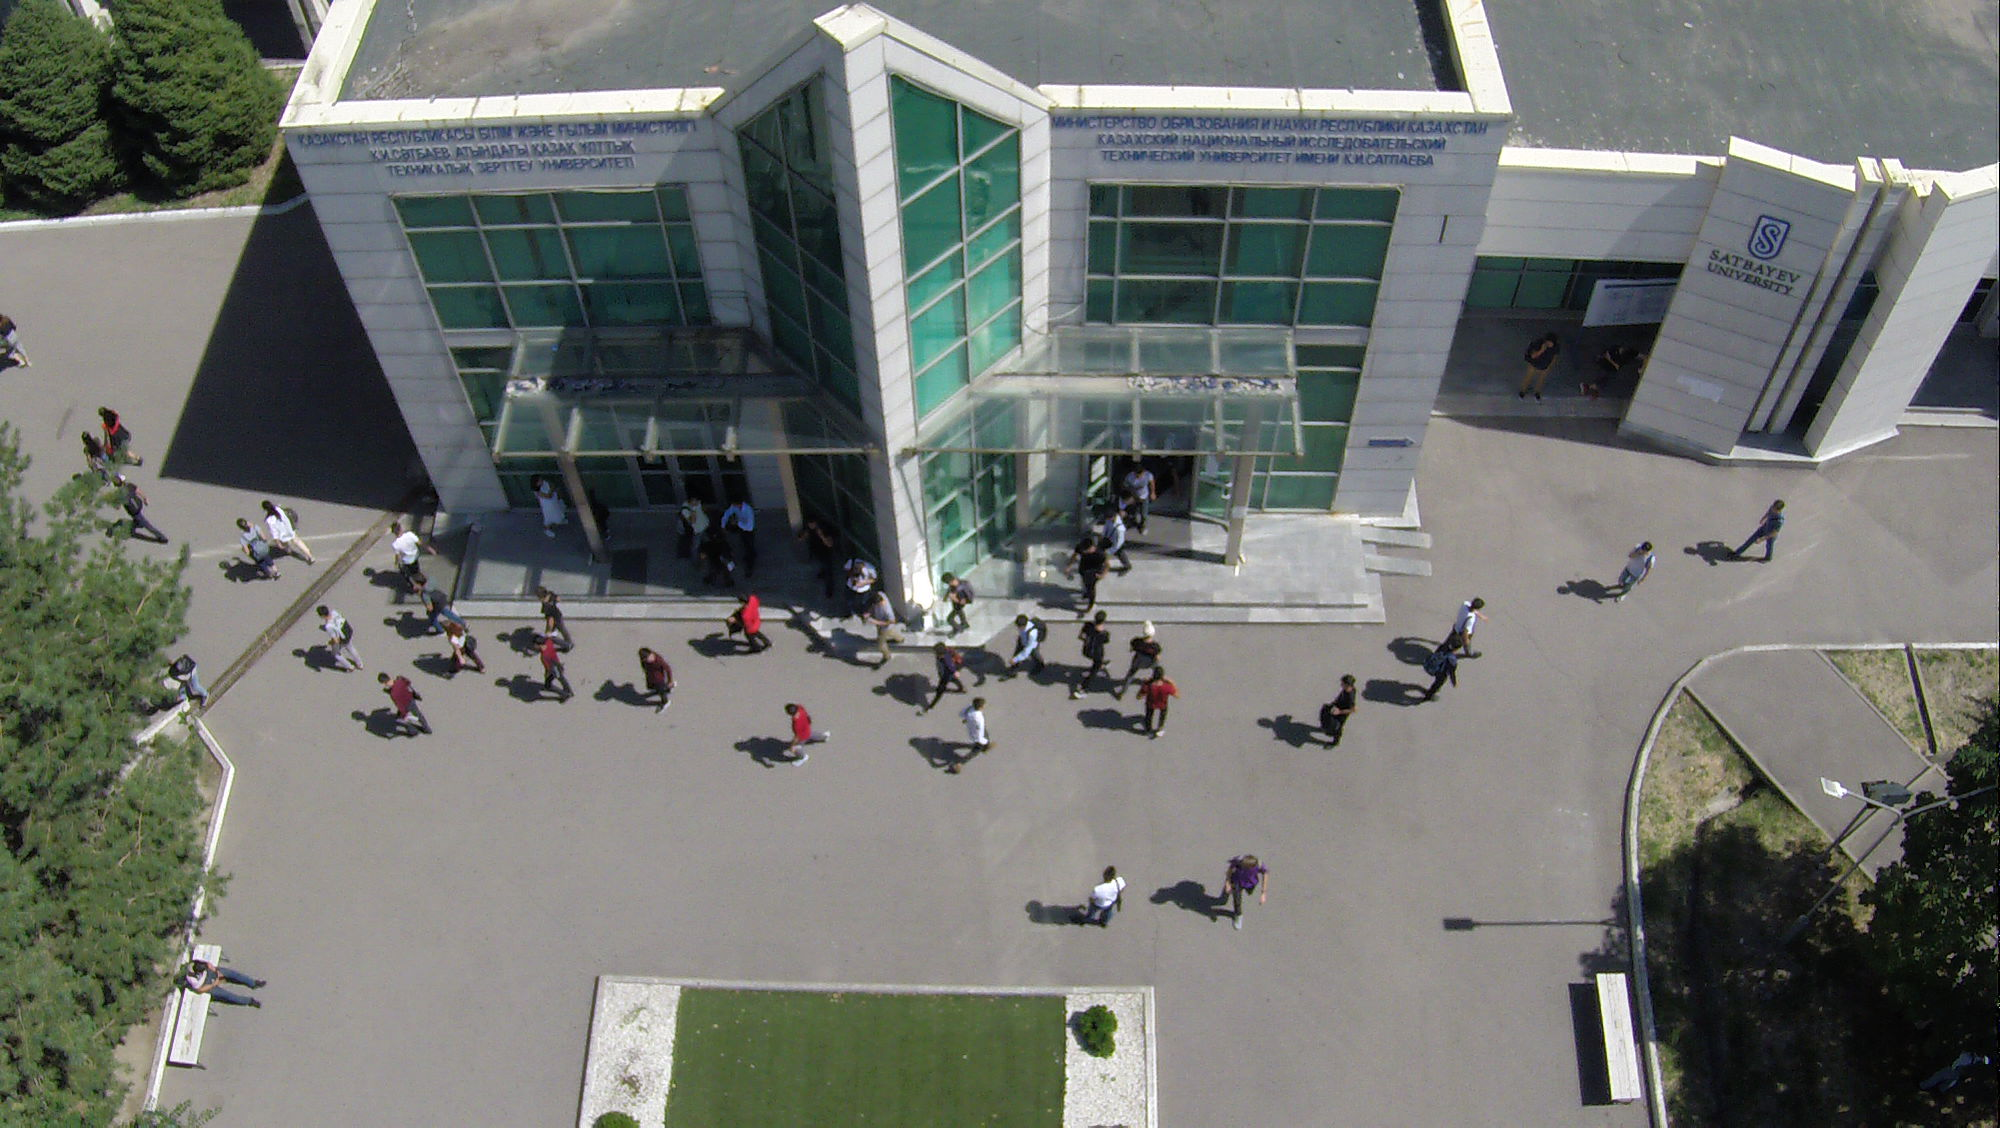person: (113, 470, 176, 550), (179, 953, 266, 1008), (1066, 866, 1130, 936), (382, 667, 435, 747), (1216, 857, 1268, 938), (1605, 537, 1661, 611), (315, 605, 365, 684), (1579, 342, 1646, 402), (264, 495, 316, 570), (1726, 503, 1786, 567), (799, 511, 843, 597), (1418, 634, 1470, 705), (1316, 670, 1362, 749), (995, 609, 1047, 678), (949, 694, 991, 781), (725, 590, 776, 660), (528, 634, 574, 709), (782, 693, 827, 766), (1138, 661, 1178, 741), (1075, 612, 1111, 702), (98, 404, 147, 467), (636, 643, 677, 718), (1515, 337, 1559, 405), (869, 586, 904, 673), (233, 519, 279, 584), (532, 470, 572, 541), (533, 584, 577, 647), (444, 620, 484, 682), (164, 647, 206, 705), (415, 582, 463, 633), (839, 559, 873, 628), (1075, 537, 1104, 617), (388, 521, 425, 581), (1100, 497, 1128, 578), (72, 425, 111, 480), (1455, 595, 1487, 661), (943, 573, 977, 637), (930, 643, 961, 705), (730, 495, 757, 564), (676, 499, 710, 553), (1129, 625, 1157, 684), (702, 530, 729, 583)
